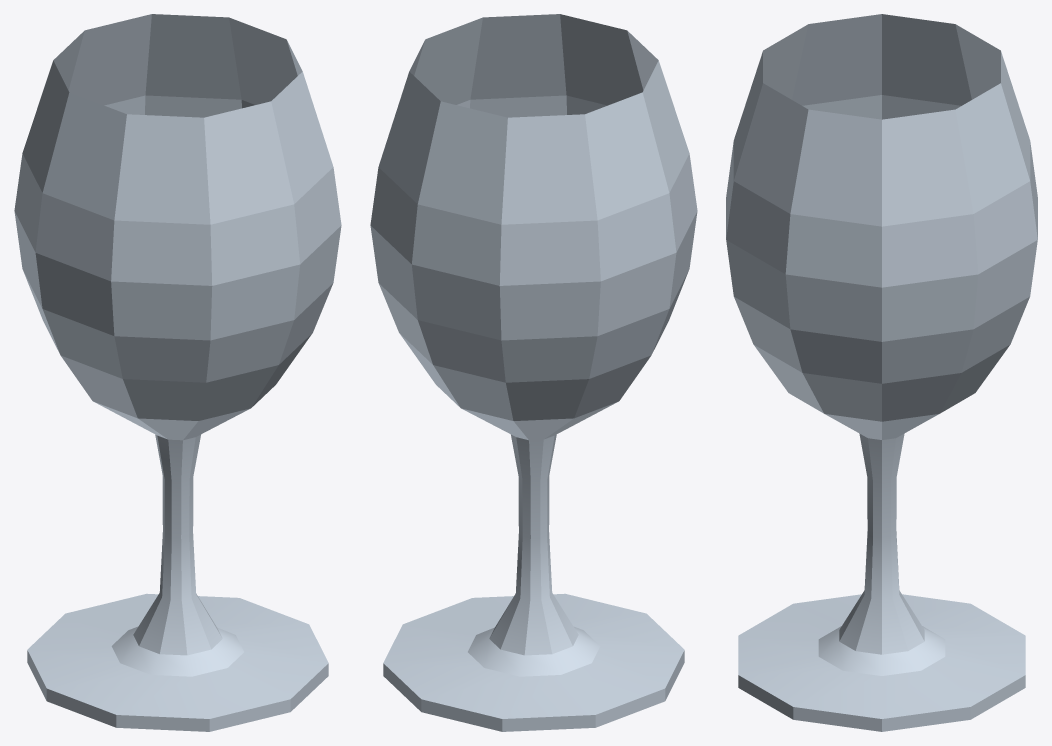
The model's file is Glass_Transparent.fbx.
3 renders of one model, left to right at view 1: azimuth 30°, elevation 25°; view 2: azimuth 150°, elevation 25°; view 3: azimuth 270°, elevation 25°, orthographic.
Visible parts, largest first — view 1: pSphere1; view 2: pSphere1; view 3: pSphere1.
Boxes of the visible parts, x1,y1,x2,y2 form: pSphere1: [14, 14, 341, 731]; pSphere1: [370, 14, 697, 731]; pSphere1: [726, 14, 1037, 731].
Size of the model in its own units: 6.58 by 13.32 by 6.25.
